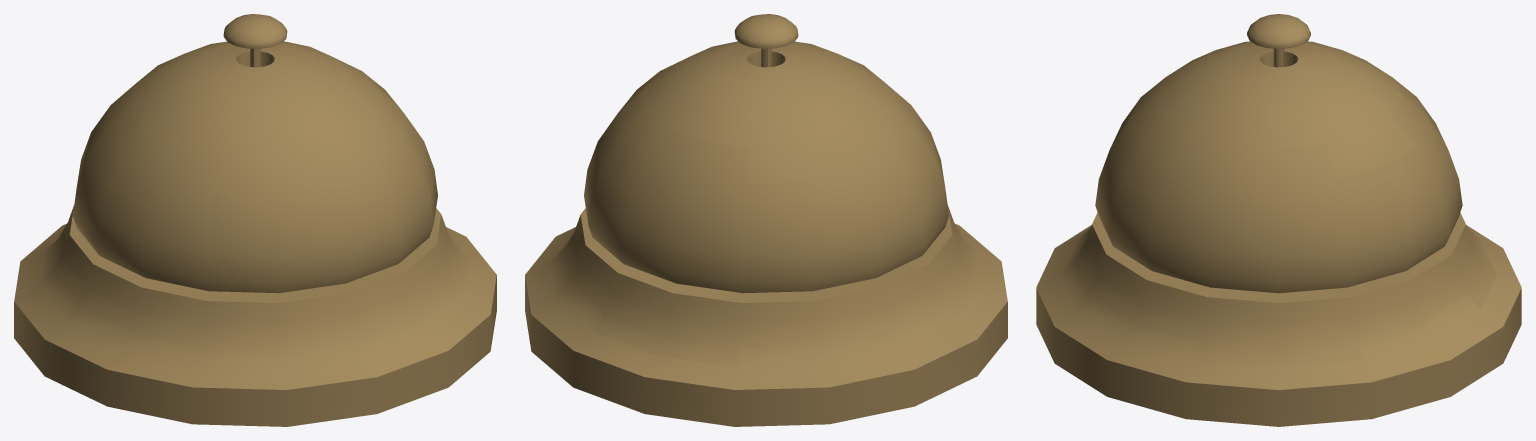
The model's file is bell_service.glb.
The picture shows the model from 3 angles, left to right: view 1: azimuth 30°, elevation 25°; view 2: azimuth 150°, elevation 25°; view 3: azimuth 270°, elevation 25°; orthographic projection.
Parts seen in each view (by area): view 1: bell_service; view 2: bell_service; view 3: bell_service.
Boxes of the visible parts, x1,y1,x2,y2 form: bell_service: [14, 14, 496, 426]; bell_service: [525, 14, 1007, 426]; bell_service: [1036, 14, 1521, 426].
Bounding box in the file's own units: 0.084 × 0.0583 × 0.084.
Materials: 1 (1 with a texture image).
